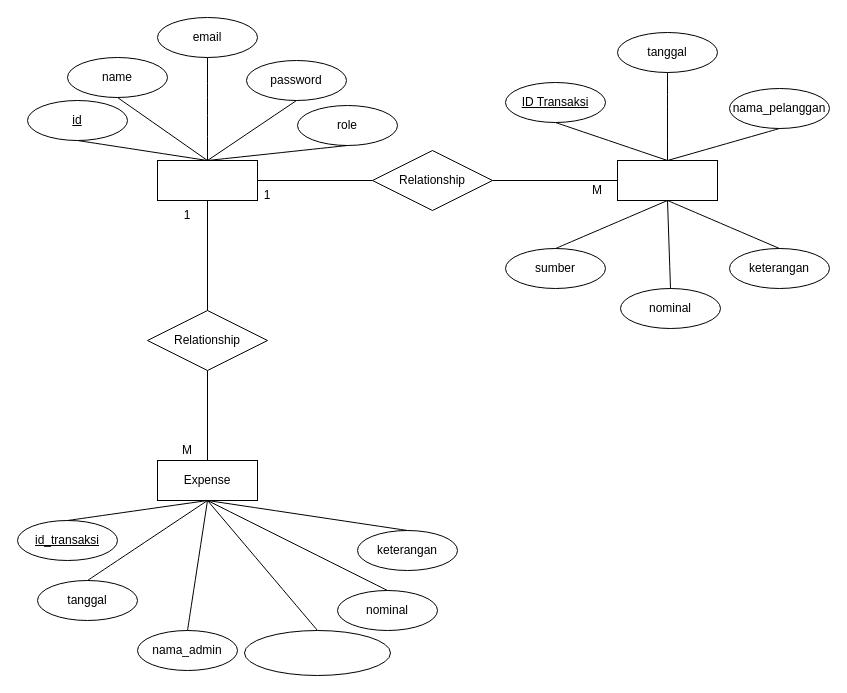
Some shapes in this 847 by 693 pixel diagram are drawn without their labels. The shapes that lost their labels are listed below. From the top down, each one's box as (x1, y1, x2, y2) in pixels, then its label:
(156, 160, 258, 200): Admin
(616, 160, 718, 200): Income
(244, 630, 390, 676): kategori_pengeluaran
